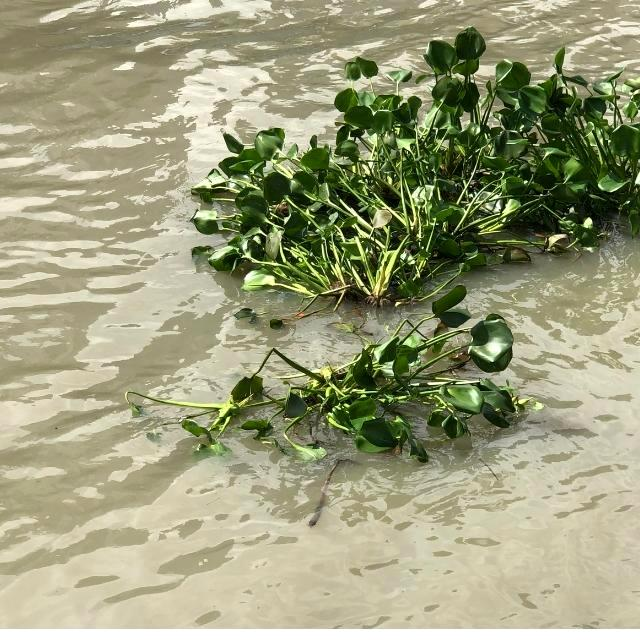water-hyacinth: (188, 23, 640, 312), (134, 322, 551, 443)
